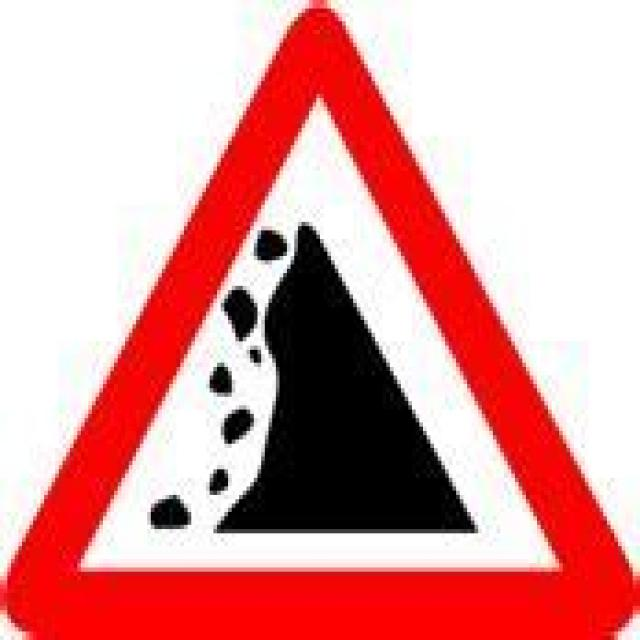FALLING_ROCKS: (3, 0, 640, 640)
